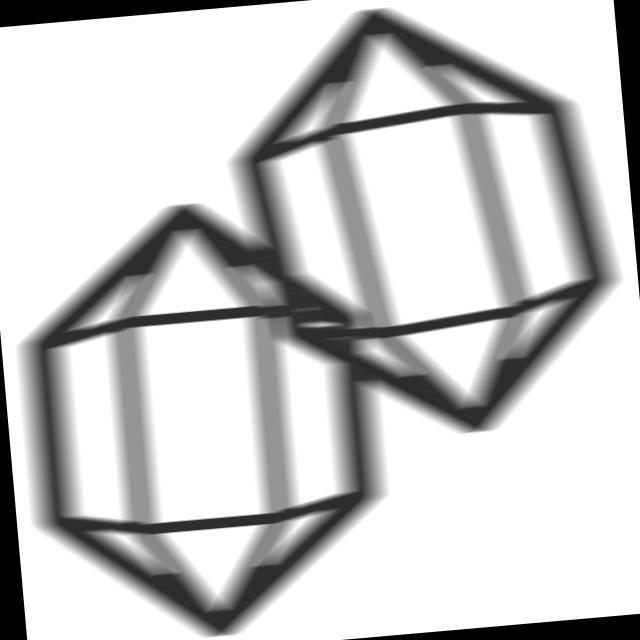crystal: (204, 1, 640, 464), (1, 185, 409, 640)
